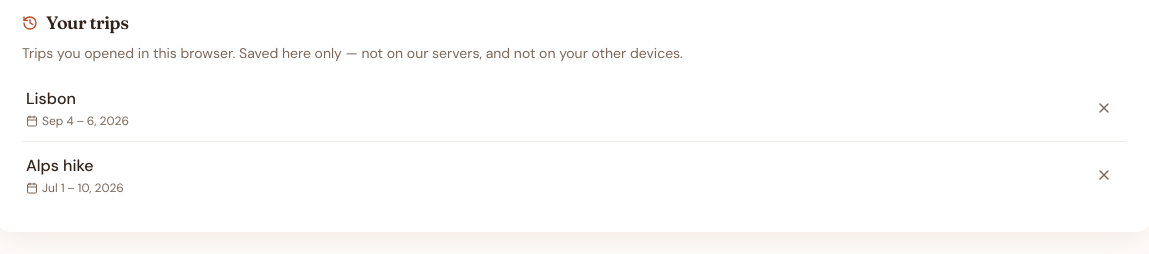
it: RecentTrips › removes a trip from the list on request, and from storage
The width and height of the screenshot is (1149, 254).
What coordinates should you click on to do the following:
click the button named "Remove Alps hike from this list"
I would click on:
 (1104, 175)
Its box is [1082, 153, 1126, 197].
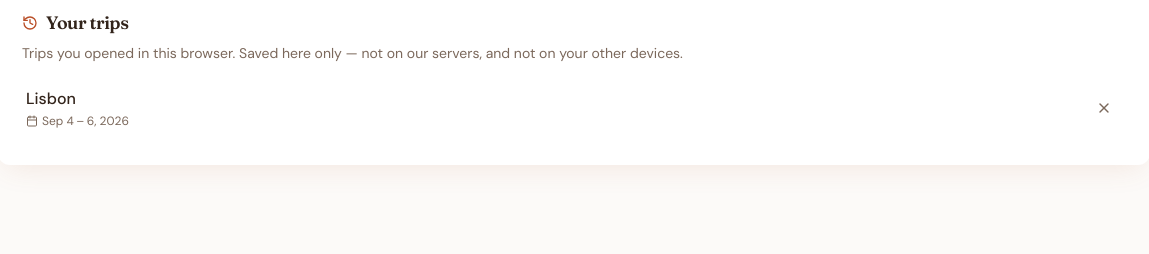
Expected: the text "Lisbon" is shown, [26, 87, 76, 111]
Result: the link "Alps hike" is gone
